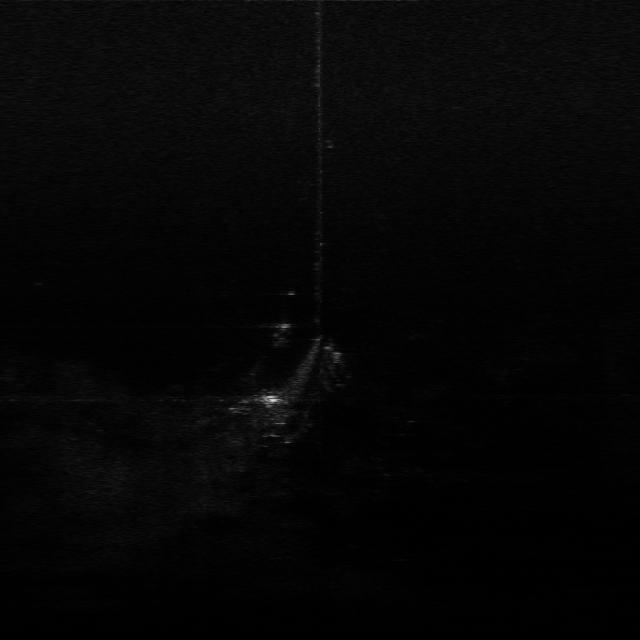rov: (257, 392, 282, 409)
